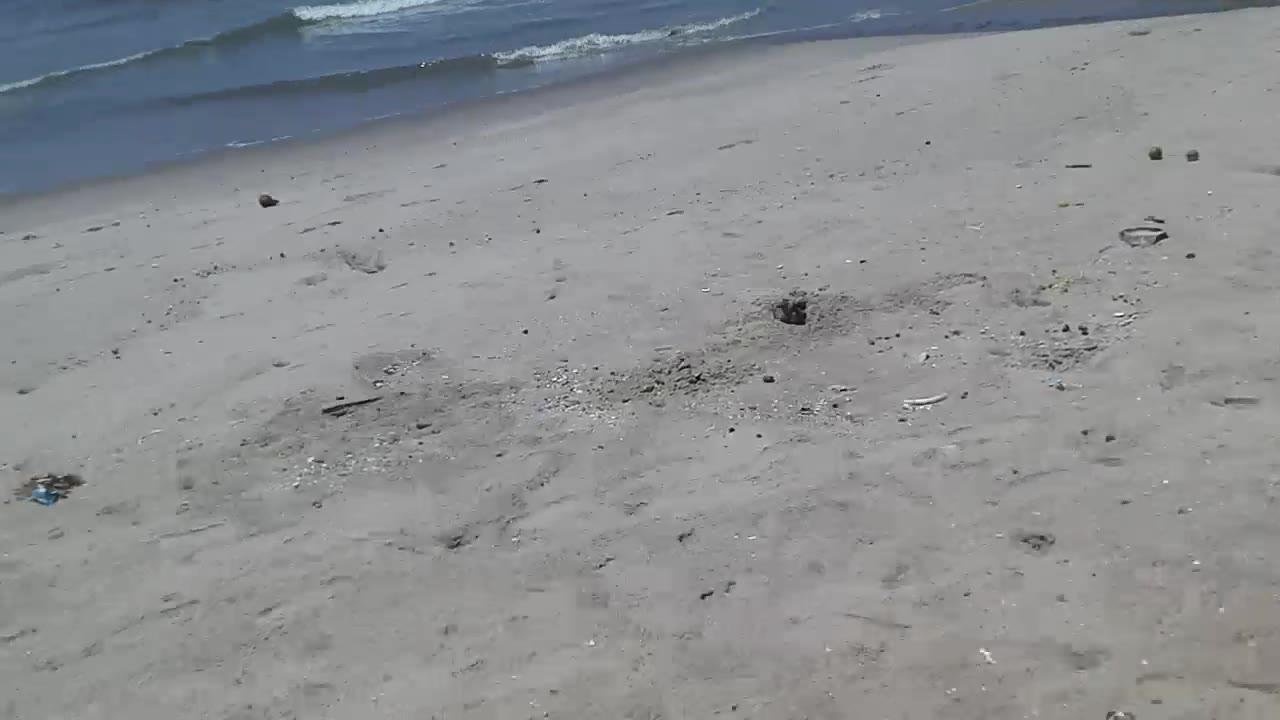obj: (12, 470, 88, 510), (1116, 223, 1170, 247), (770, 294, 810, 326), (898, 391, 951, 411), (258, 192, 279, 208), (1148, 146, 1162, 165), (1187, 148, 1198, 164)
sand/background: (1, 0, 1279, 216)
